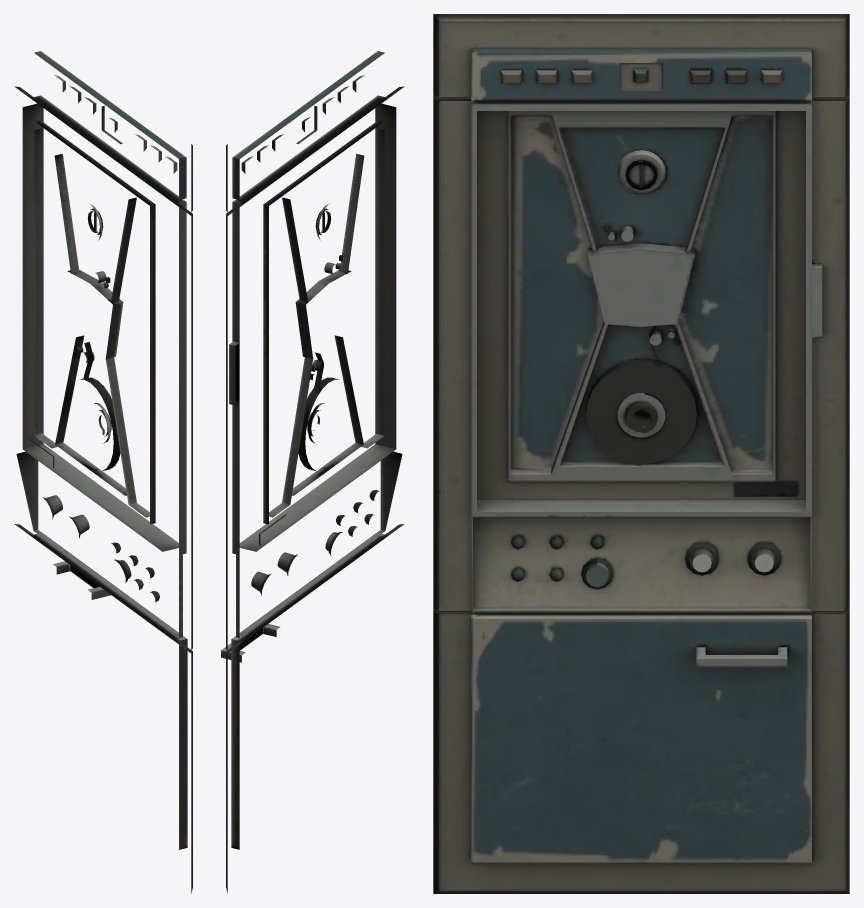
3 renders of one model, left to right at view 1: azimuth 30°, elevation 25°; view 2: azimuth 150°, elevation 25°; view 3: azimuth 270°, elevation 25°, orthographic. The views are drawn at different scales.
Visible parts, largest first — view 1: body0_model0_lod0_mesh0; view 2: body0_model0_lod0_mesh0; view 3: body0_model0_lod0_mesh0.
Part boxes in pixels (left/top/right/bottom): body0_model0_lod0_mesh0: left=14, top=51, right=192, bottom=893; body0_model0_lod0_mesh0: left=221, top=51, right=404, bottom=893; body0_model0_lod0_mesh0: left=433, top=14, right=849, bottom=893.
Bounding box in the file's own units: 7.41 × 112 × 47.99.
1 material, 1 textured.
